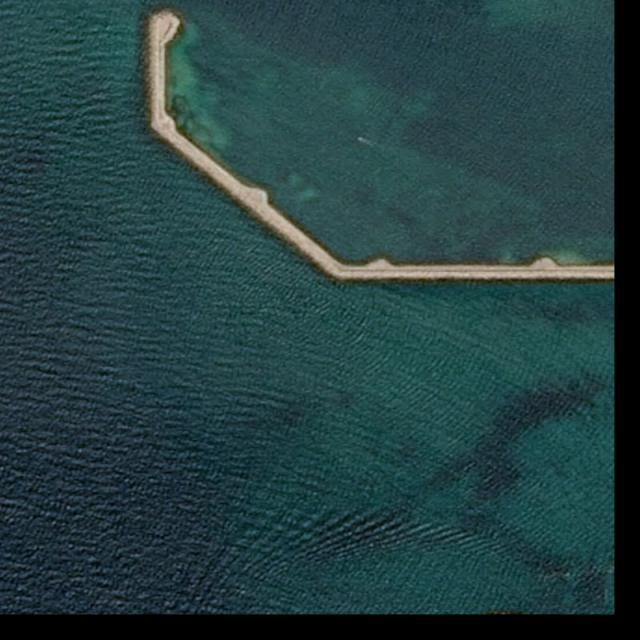ship: (356, 136, 365, 144)
